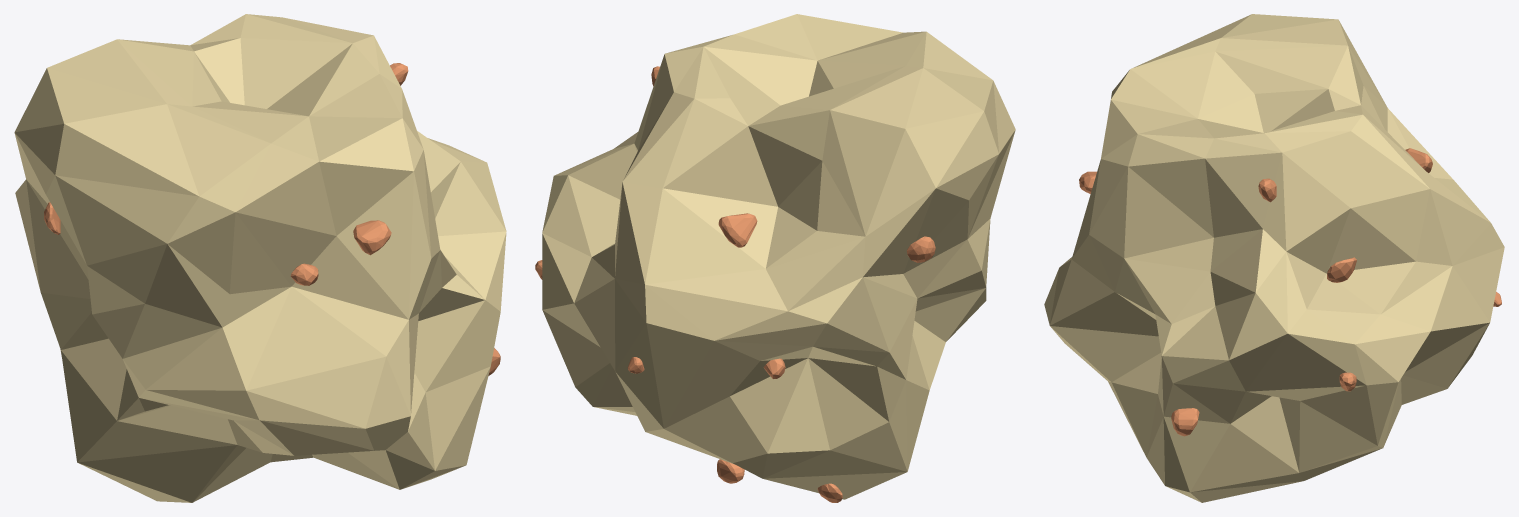
The model's file is StoneOre (49).fbx.
3 renders of one model, left to right at view 1: azimuth 30°, elevation 25°; view 2: azimuth 150°, elevation 25°; view 3: azimuth 270°, elevation 25°, orthographic. The views are drawn at different scales.
Visible parts, largest first — view 1: Asteroid336; view 2: Asteroid336; view 3: Asteroid336.
Boxes of the visible parts, <box> form: Asteroid336: <box>14,14,506,502</box>; Asteroid336: <box>535,14,1015,502</box>; Asteroid336: <box>1044,14,1504,502</box>.
Size of the model in its own units: 314 by 292 by 326.
